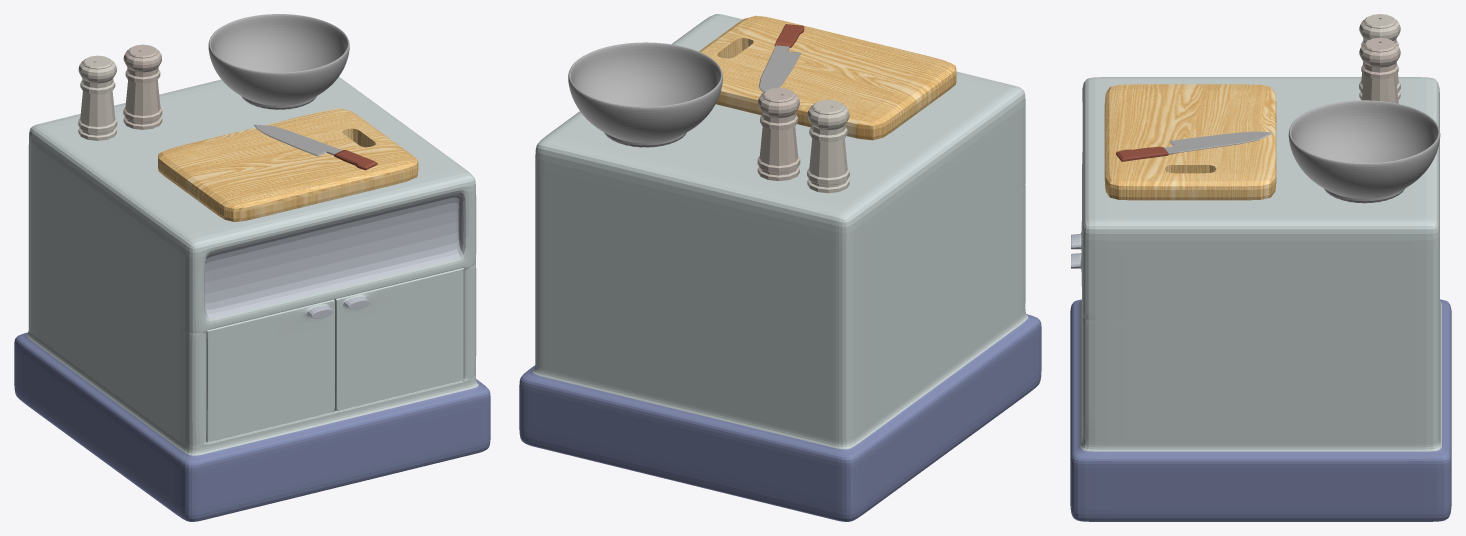
The model's file is Countertop.fbx.
3 renders of one model, left to right at view 1: azimuth 30°, elevation 25°; view 2: azimuth 150°, elevation 25°; view 3: azimuth 270°, elevation 25°, orthographic. The views are drawn at different scales.
Visible parts, largest first — view 1: 큐브.010, 평면.003, 구체, 원형.009, 원형.007, 평면.002; view 2: 큐브.010, 평면.003, 구체, 원형.007, 원형.009, 평면.002; view 3: 큐브.010, 평면.003, 구체, 원형.009, 평면.002, 원형.007.
Part boxes in pixels (<box>): 큐브.010: <box>14,77,490,521</box>; 평면.003: <box>158,108,418,221</box>; 구체: <box>208,14,349,109</box>; 원형.009: <box>123,44,162,129</box>; 원형.007: <box>78,55,117,140</box>; 평면.002: <box>254,124,377,170</box>; 큐브.010: <box>519,14,1041,521</box>; 평면.003: <box>699,15,956,140</box>; 구체: <box>568,42,722,147</box>; 원형.007: <box>807,99,849,193</box>; 원형.009: <box>757,87,800,180</box>; 평면.002: <box>758,24,804,92</box>; 큐브.010: <box>1070,77,1451,521</box>; 평면.003: <box>1104,84,1276,200</box>; 구체: <box>1288,100,1440,203</box>; 원형.009: <box>1359,37,1400,103</box>; 평면.002: <box>1116,131,1273,161</box>; 원형.007: <box>1359,14,1400,99</box>.
Size of the model in its own units: 315 by 339 by 315.
